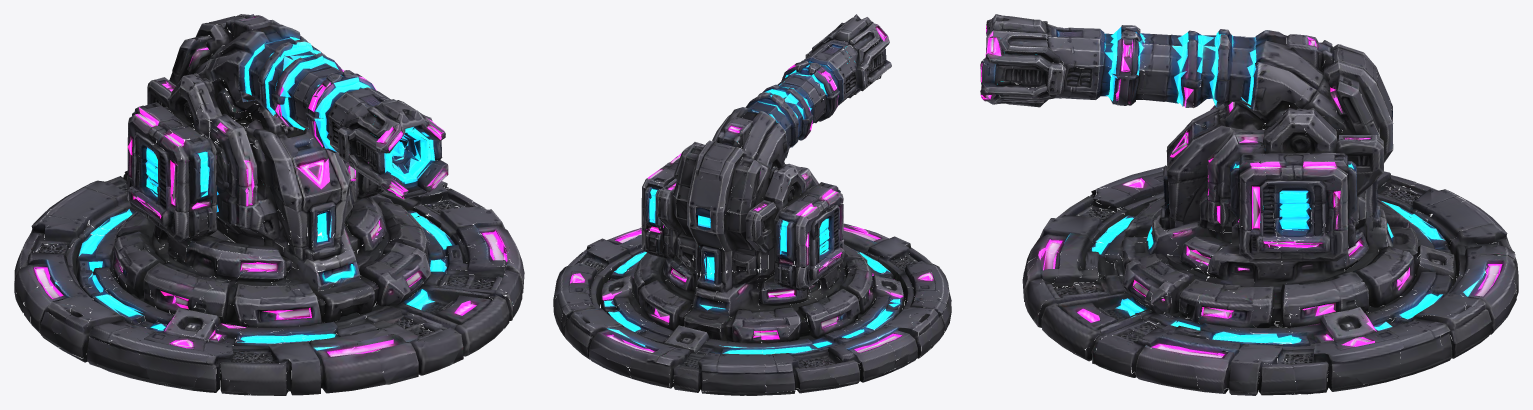
File: warrior-5-tier-3.glb
3 views of the same model, side by side, from view 1: azimuth 30°, elevation 25°; view 2: azimuth 150°, elevation 25°; view 3: azimuth 270°, elevation 25° (orthographic). The views are drawn at different scales.
Parts seen in each view (by area): view 1: fixed-platform, moving-assembly; view 2: fixed-platform, moving-assembly; view 3: fixed-platform, moving-assembly.
Boxes of the visible parts, x1,y1,x2,y2 form: fixed-platform: [14, 152, 524, 395]; moving-assembly: [127, 14, 448, 247]; fixed-platform: [553, 217, 951, 395]; moving-assembly: [641, 14, 891, 290]; fixed-platform: [1022, 166, 1518, 395]; moving-assembly: [980, 14, 1393, 259].
Bounding box in the file's own units: 0.7215 × 0.4508 × 0.7748.
Materials: 3 (3 with a texture image).
